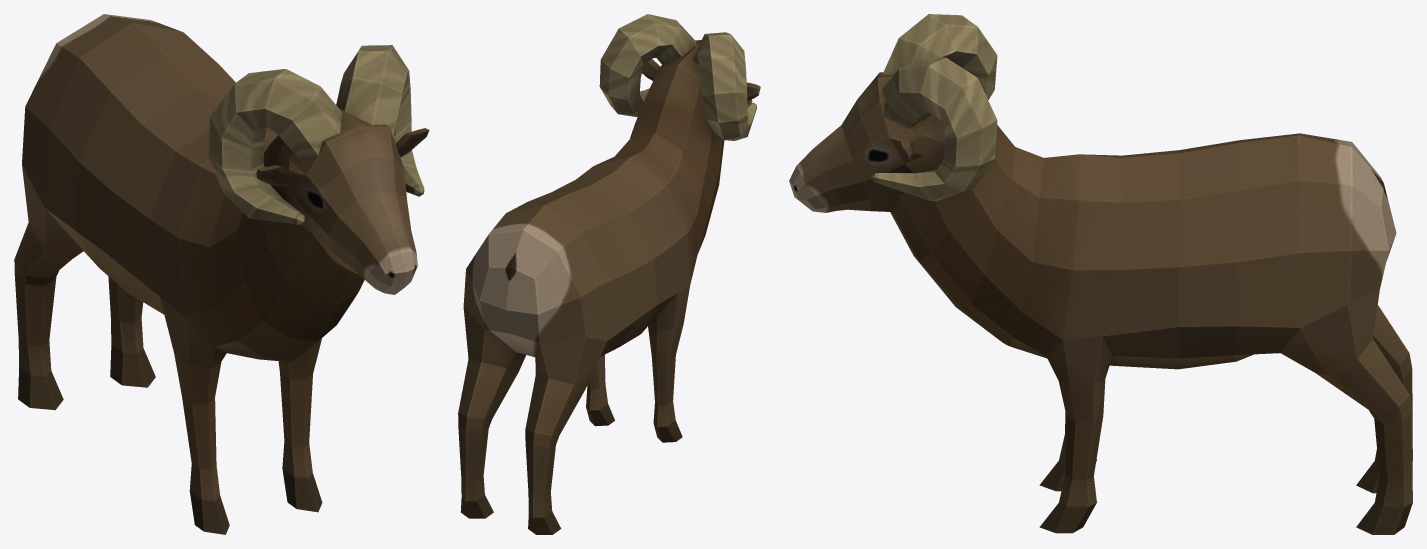
The model's file is borrego.glb.
3 renders of one model, left to right at view 1: azimuth 30°, elevation 25°; view 2: azimuth 150°, elevation 25°; view 3: azimuth 270°, elevation 25°, orthographic. The views are drawn at different scales.
Parts seen in each view (by area): view 1: BighornSheep_mesh; view 2: BighornSheep_mesh; view 3: BighornSheep_mesh.
Part boxes in pixels (bbox=[...]): BighornSheep_mesh: bbox=[14, 14, 429, 534]; BighornSheep_mesh: bbox=[458, 14, 760, 534]; BighornSheep_mesh: bbox=[789, 14, 1412, 534].
Size of the model in its own units: 2.46 by 6.21 by 7.53.
Materials: 1 (1 with a texture image).
